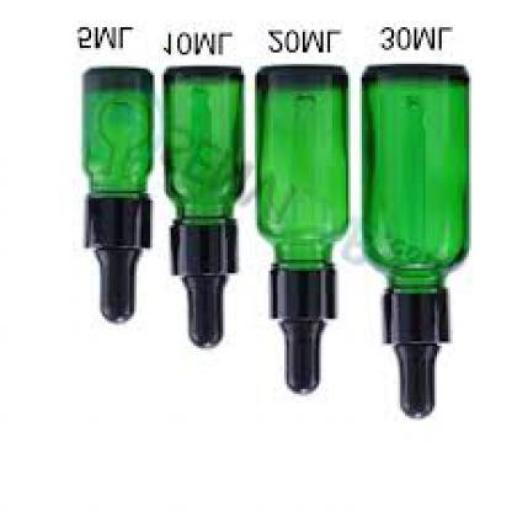glass: (362, 66, 466, 296), (255, 68, 348, 270), (162, 70, 240, 225), (79, 70, 151, 201)
plastic: (84, 200, 148, 326), (385, 294, 446, 422), (168, 226, 232, 348), (271, 275, 332, 396)
